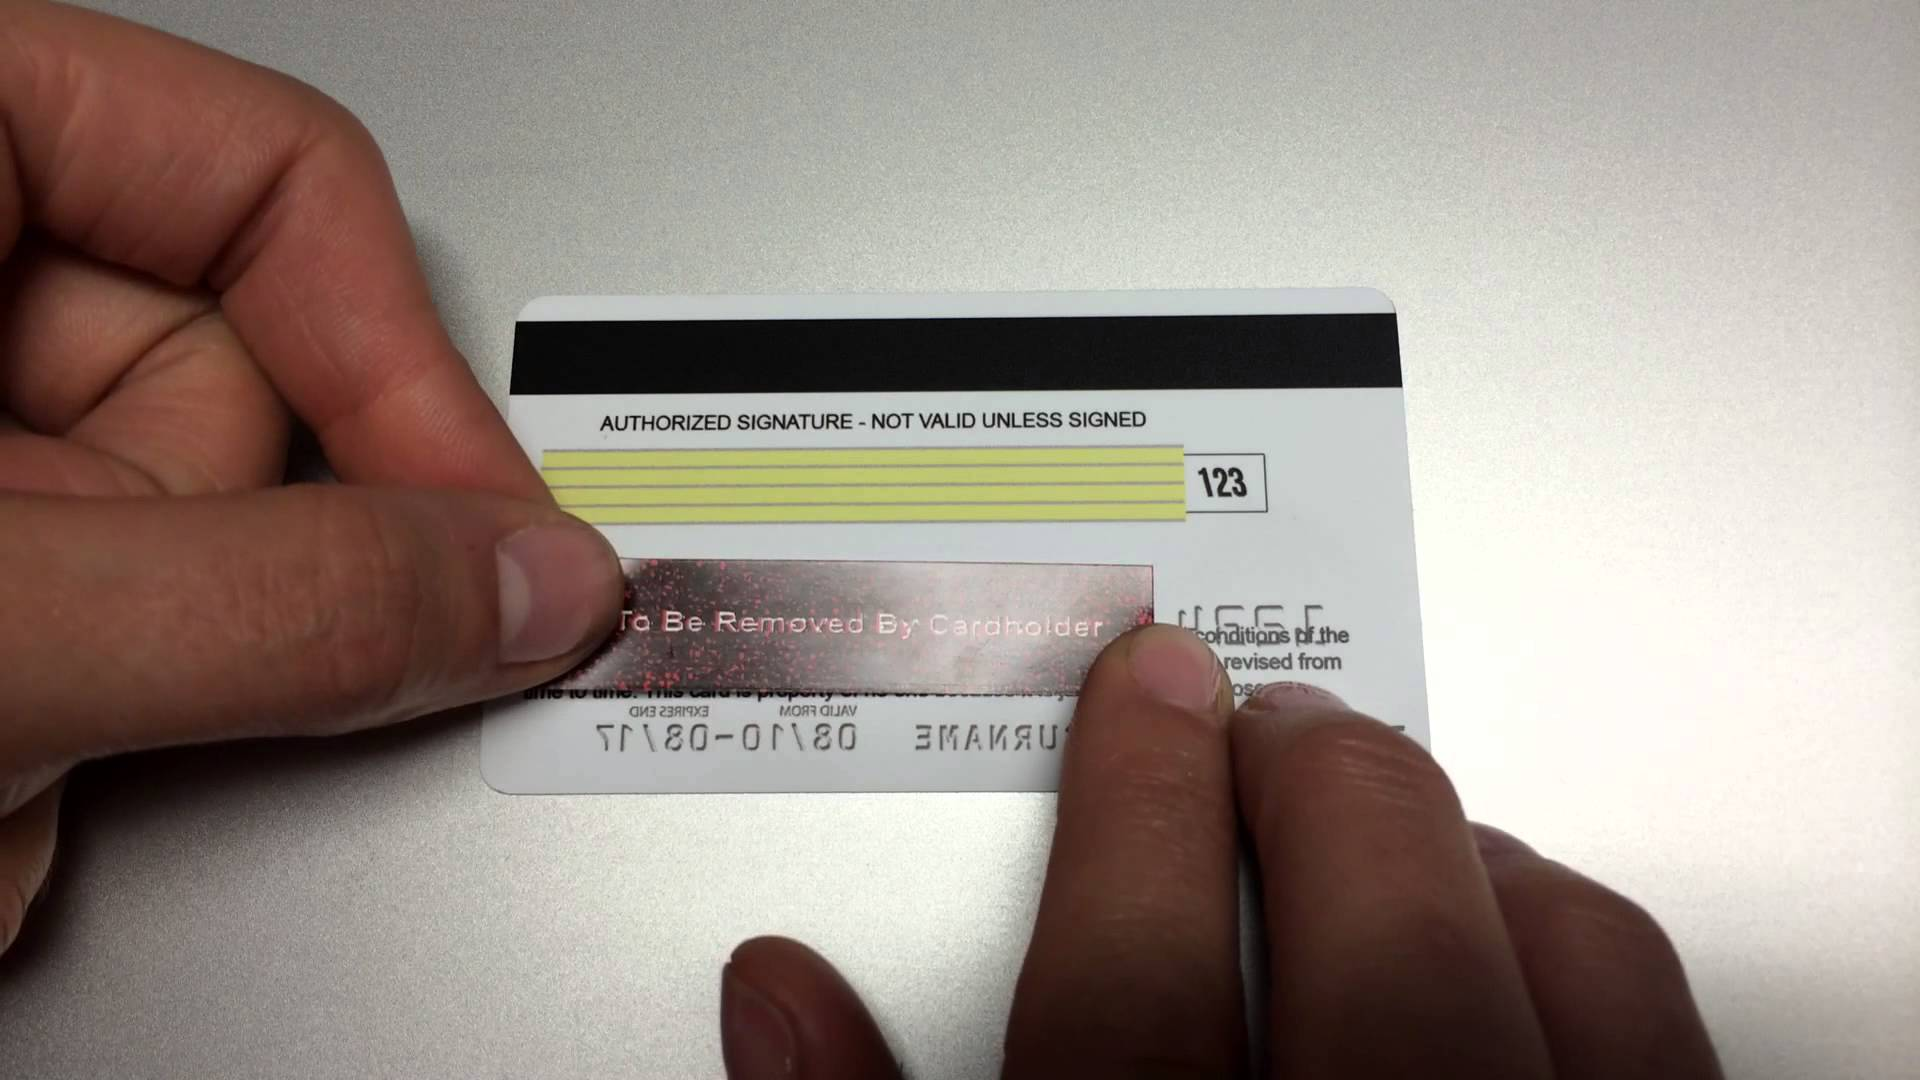tarjeta: (473, 285, 1436, 800)
